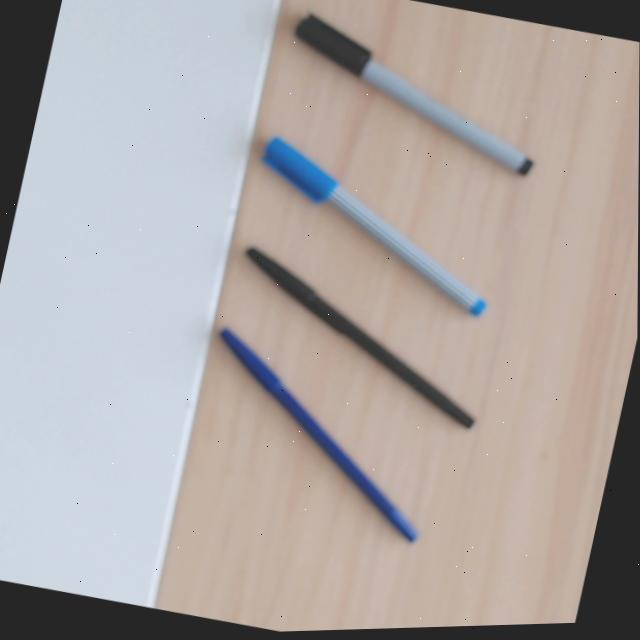Pulpen-Biru: (214, 324, 419, 546)
Pulpen-Garis-Biru: (255, 133, 487, 327)
Pulpen-Garis-Hitam: (291, 8, 539, 183)
Pulpen-Hitam: (239, 242, 475, 435)
